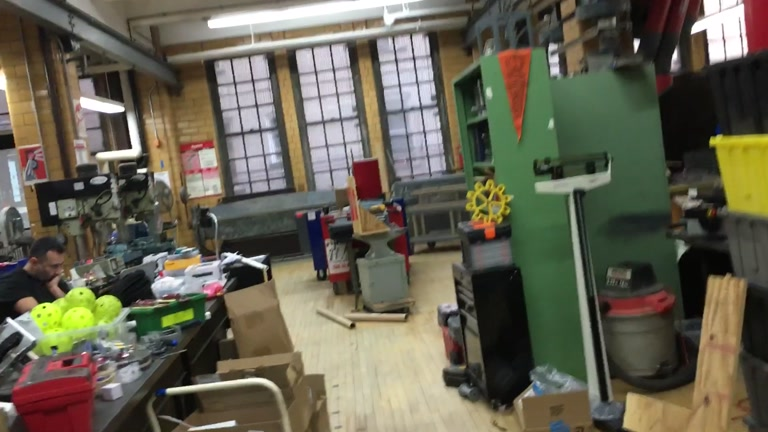gear: (464, 177, 511, 226)
